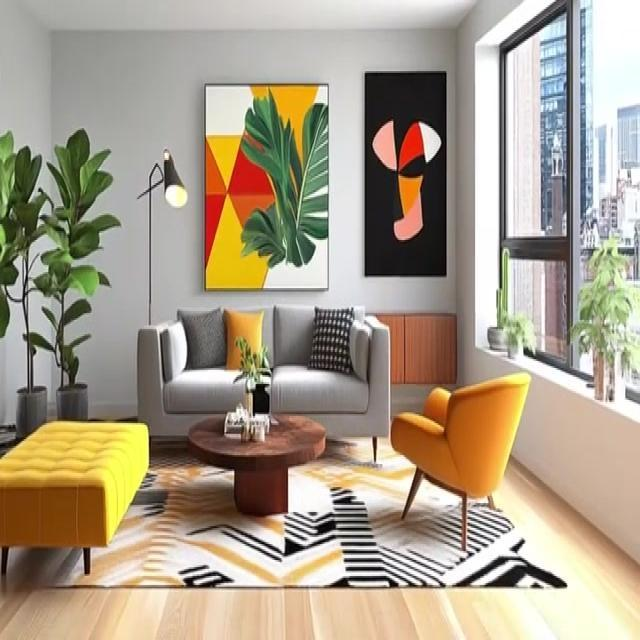obstacle: (136, 302, 391, 462), (390, 369, 531, 552), (186, 410, 326, 516)
